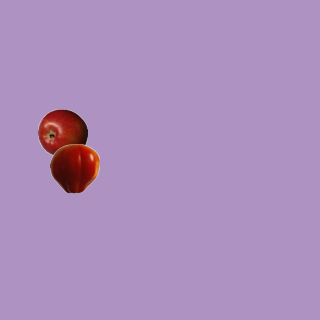Apple Braeburn: (37, 108, 87, 158)
Tomato 1: (49, 143, 99, 193)
